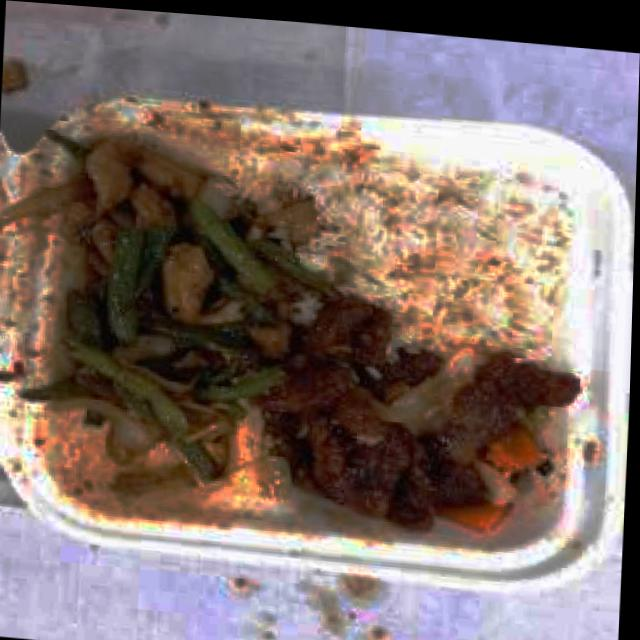Beijing Beef: (269, 314, 581, 546)
String Bean Chicken Breast: (19, 132, 279, 507)
rice: (394, 173, 578, 343), (347, 156, 401, 306), (399, 317, 570, 360)
